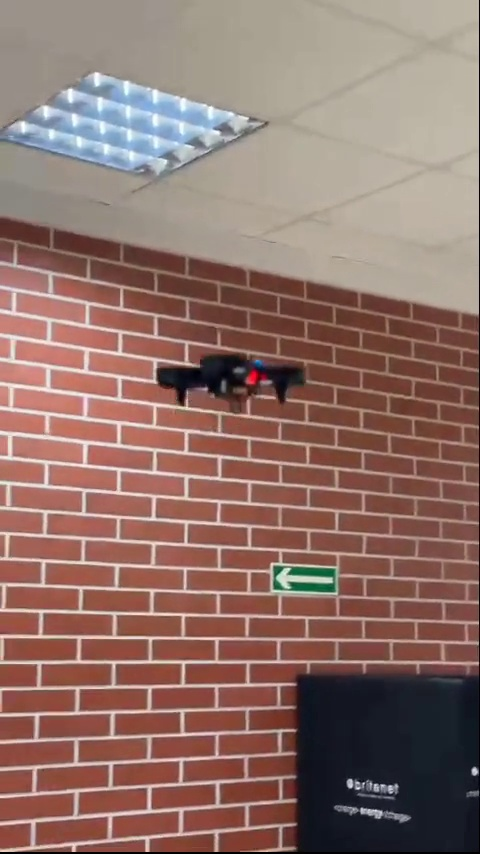drone: (156, 356, 308, 413)
